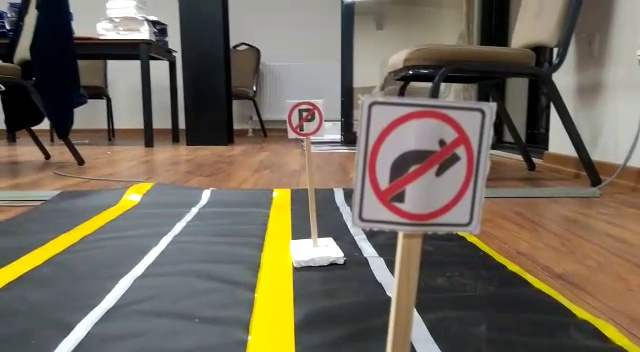park_yapilmaz: (285, 101, 322, 140)
saga_donulmez: (360, 103, 478, 222)
